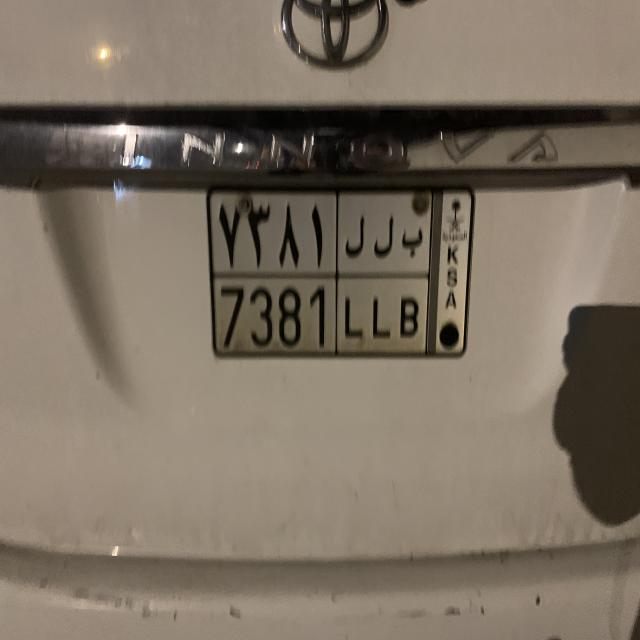license_plate: (201, 180, 477, 367)
